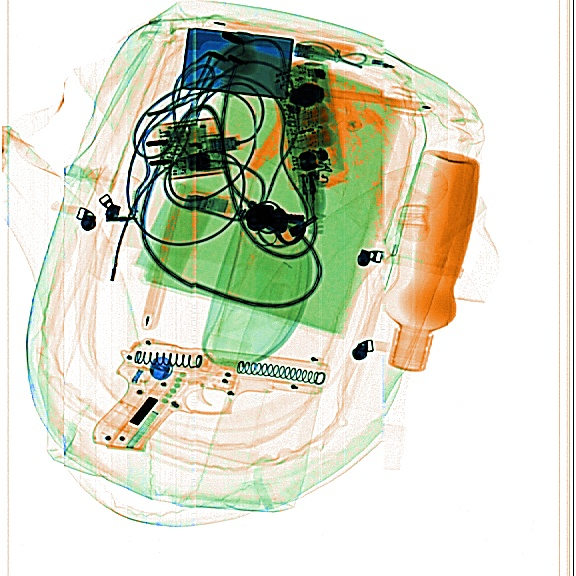bottle: (375, 147, 492, 378)
flashdrive: (178, 193, 230, 214)
gun: (86, 334, 340, 454)
